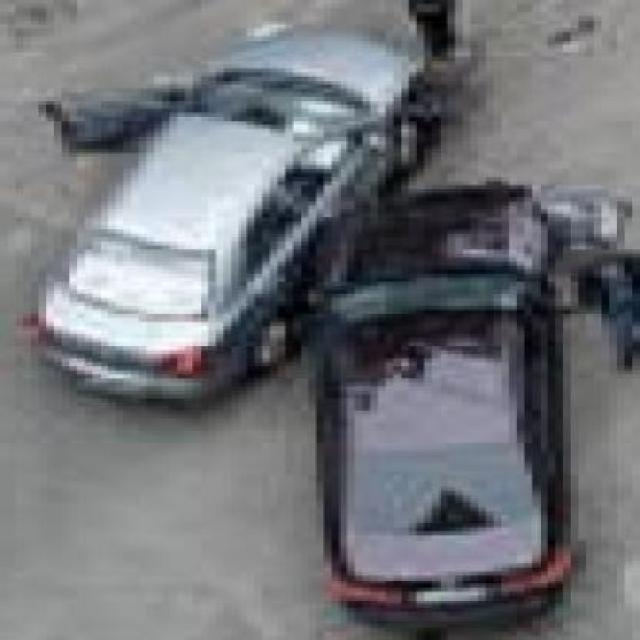accident: (40, 50, 589, 628)
